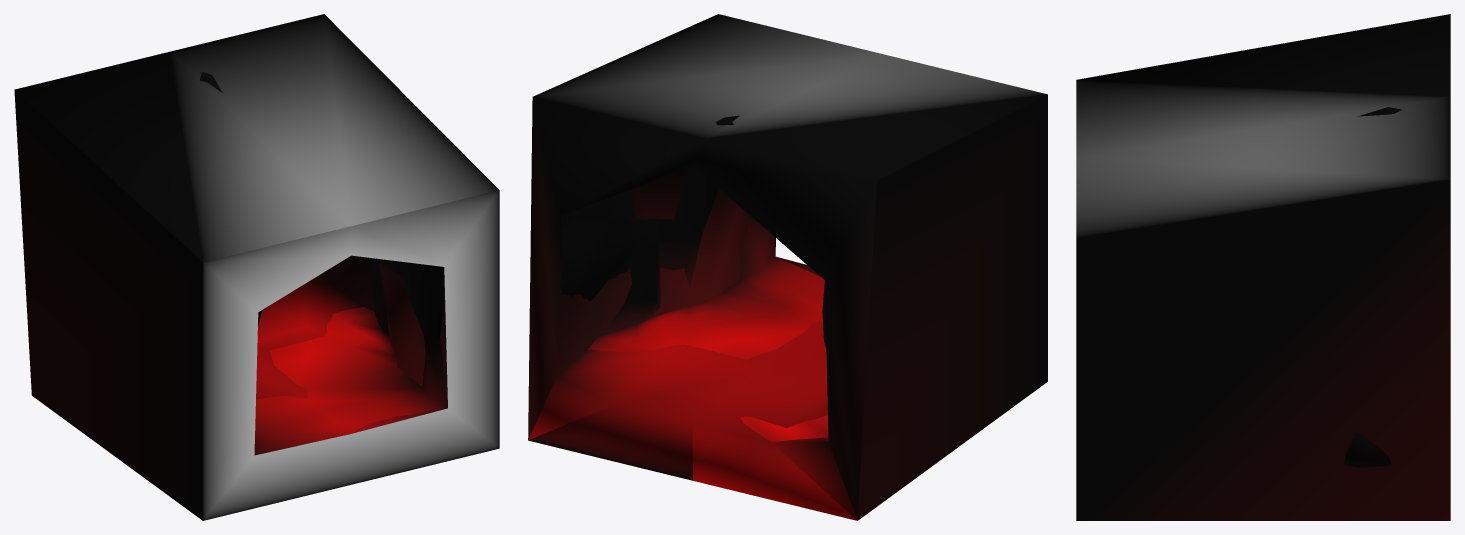
Rendered from JD_Cave_A_Tunnel_6to4_01.fbx.
The picture shows the model from 3 angles, left to right: view 1: azimuth 30°, elevation 25°; view 2: azimuth 150°, elevation 25°; view 3: azimuth 270°, elevation 25°; orthographic projection. The views are drawn at different scales.
Visible parts, largest first — view 1: C_JD_Cave_A_Tunnel_6to4_01, JD_Cave_A_Tunnel_6to4_01; view 2: C_JD_Cave_A_Tunnel_6to4_01, JD_Cave_A_Tunnel_6to4_01; view 3: C_JD_Cave_A_Tunnel_6to4_01, JD_Cave_A_Tunnel_6to4_01.
Part boxes in pixels (x1,y1,x2,y2): C_JD_Cave_A_Tunnel_6to4_01: [14, 14, 499, 520]; JD_Cave_A_Tunnel_6to4_01: [41, 72, 447, 454]; C_JD_Cave_A_Tunnel_6to4_01: [528, 14, 1047, 520]; JD_Cave_A_Tunnel_6to4_01: [559, 115, 878, 442]; C_JD_Cave_A_Tunnel_6to4_01: [1076, 14, 1450, 520]; JD_Cave_A_Tunnel_6to4_01: [1343, 107, 1401, 467].
Bounding box in the file's own units: 6.4 × 6 × 6.
